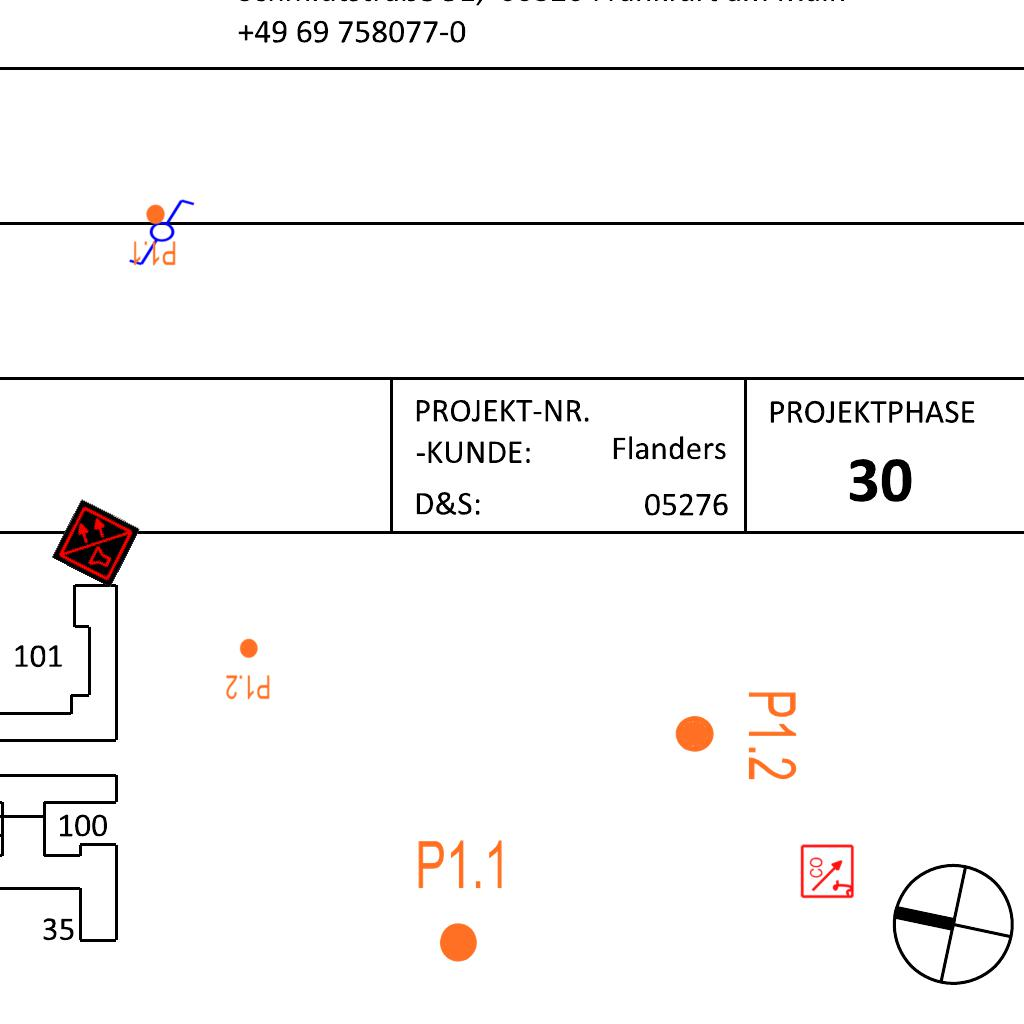Downlight_LED_Einbauleuchten_Flur: (415, 837, 508, 965), (672, 689, 800, 782), (225, 637, 271, 701), (131, 203, 177, 267)
OKW_Multisensormelder_(Kombination_optischer_Rauch-Kahlenmonoxid_Waerme-Melder): (51, 498, 141, 588)
ROA_Rauchmelder_optisch_mit_Signalgeber_(Sockelsirene): (800, 843, 856, 899)
Wechselschalter: (127, 197, 205, 269)
